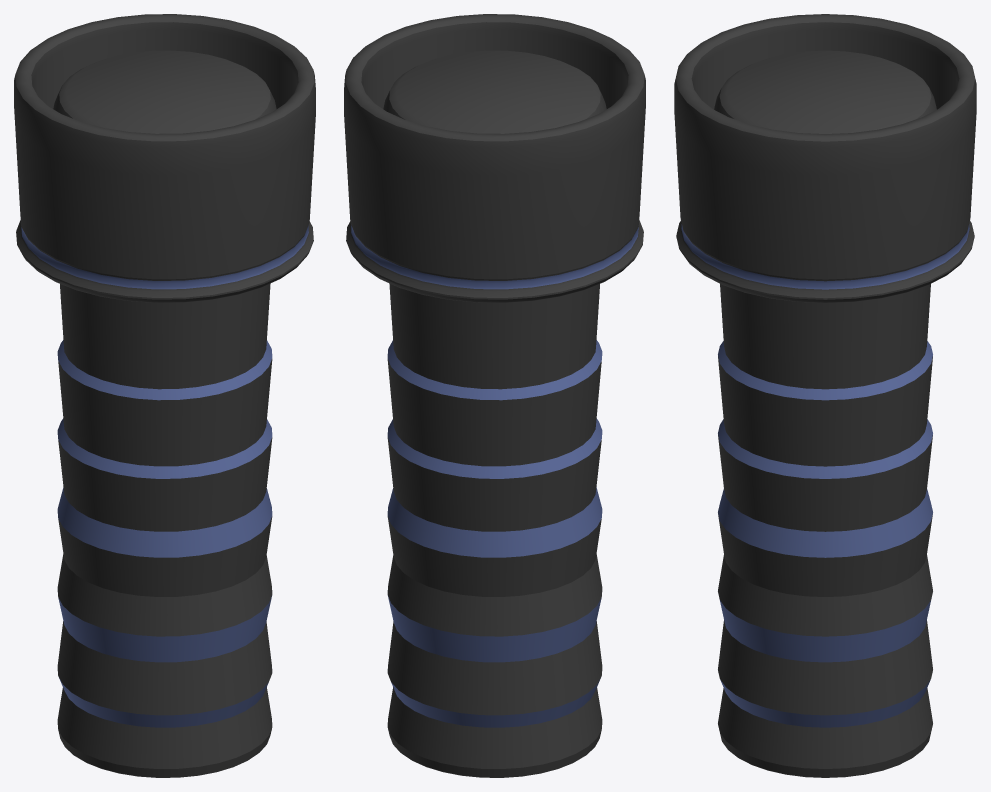
Rendered from torch.glb.
3 views of the same model, side by side, from view 1: azimuth 30°, elevation 25°; view 2: azimuth 150°, elevation 25°; view 3: azimuth 270°, elevation 25° (orthographic).
Visible parts, largest first — view 1: Cylinder; view 2: Cylinder; view 3: Cylinder.
Boxes of the visible parts, x1,y1,x2,y2 form: Cylinder: (14, 14, 315, 777); Cylinder: (344, 14, 645, 777); Cylinder: (674, 14, 976, 777).
Size of the model in its own units: 2.81 by 6.75 by 2.81.
